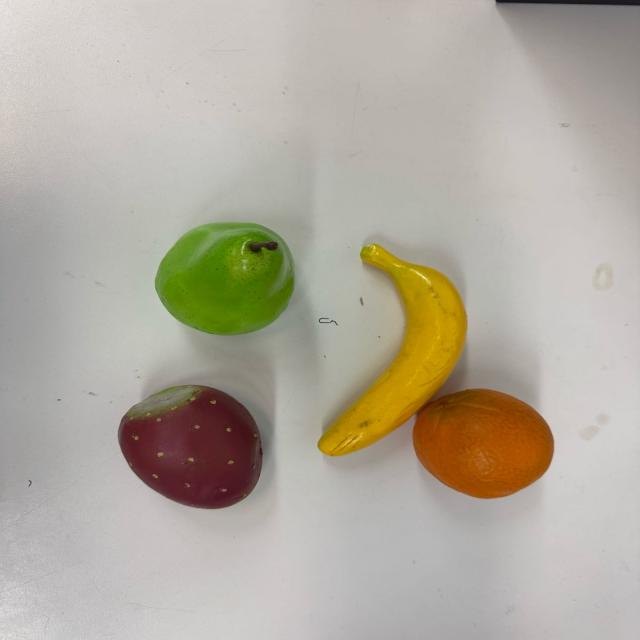banana: (314, 244, 467, 456)
orange: (411, 386, 556, 498)
pear: (153, 222, 296, 332)
tuna: (116, 384, 265, 509)
